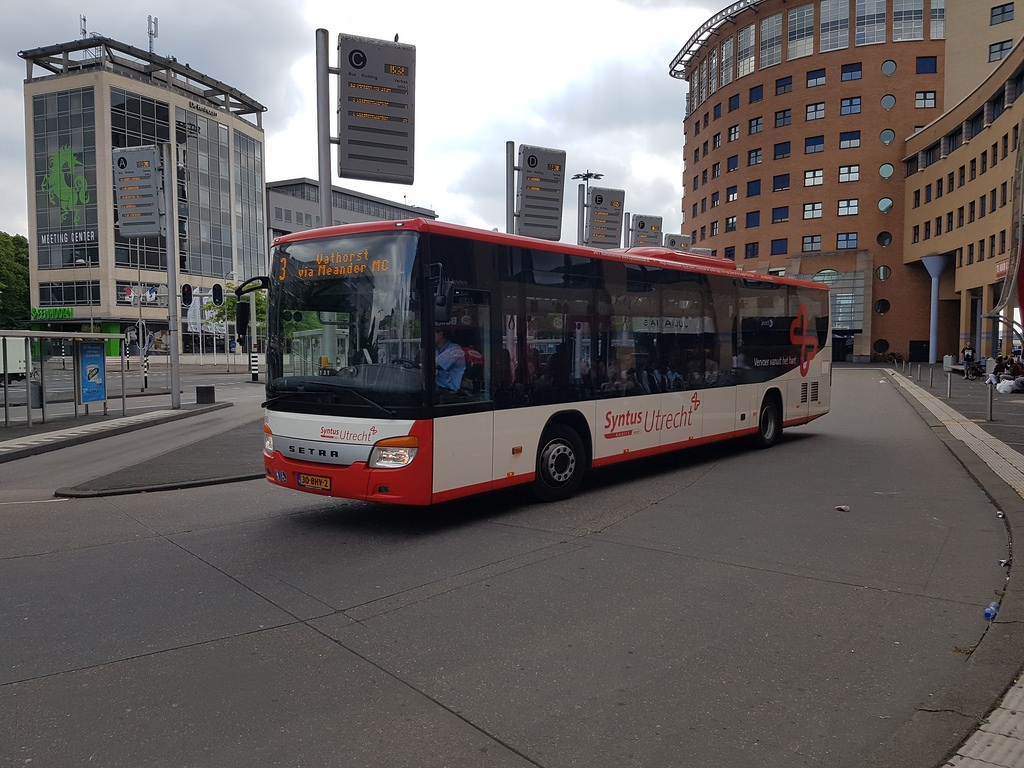bus: (242, 217, 839, 504)
